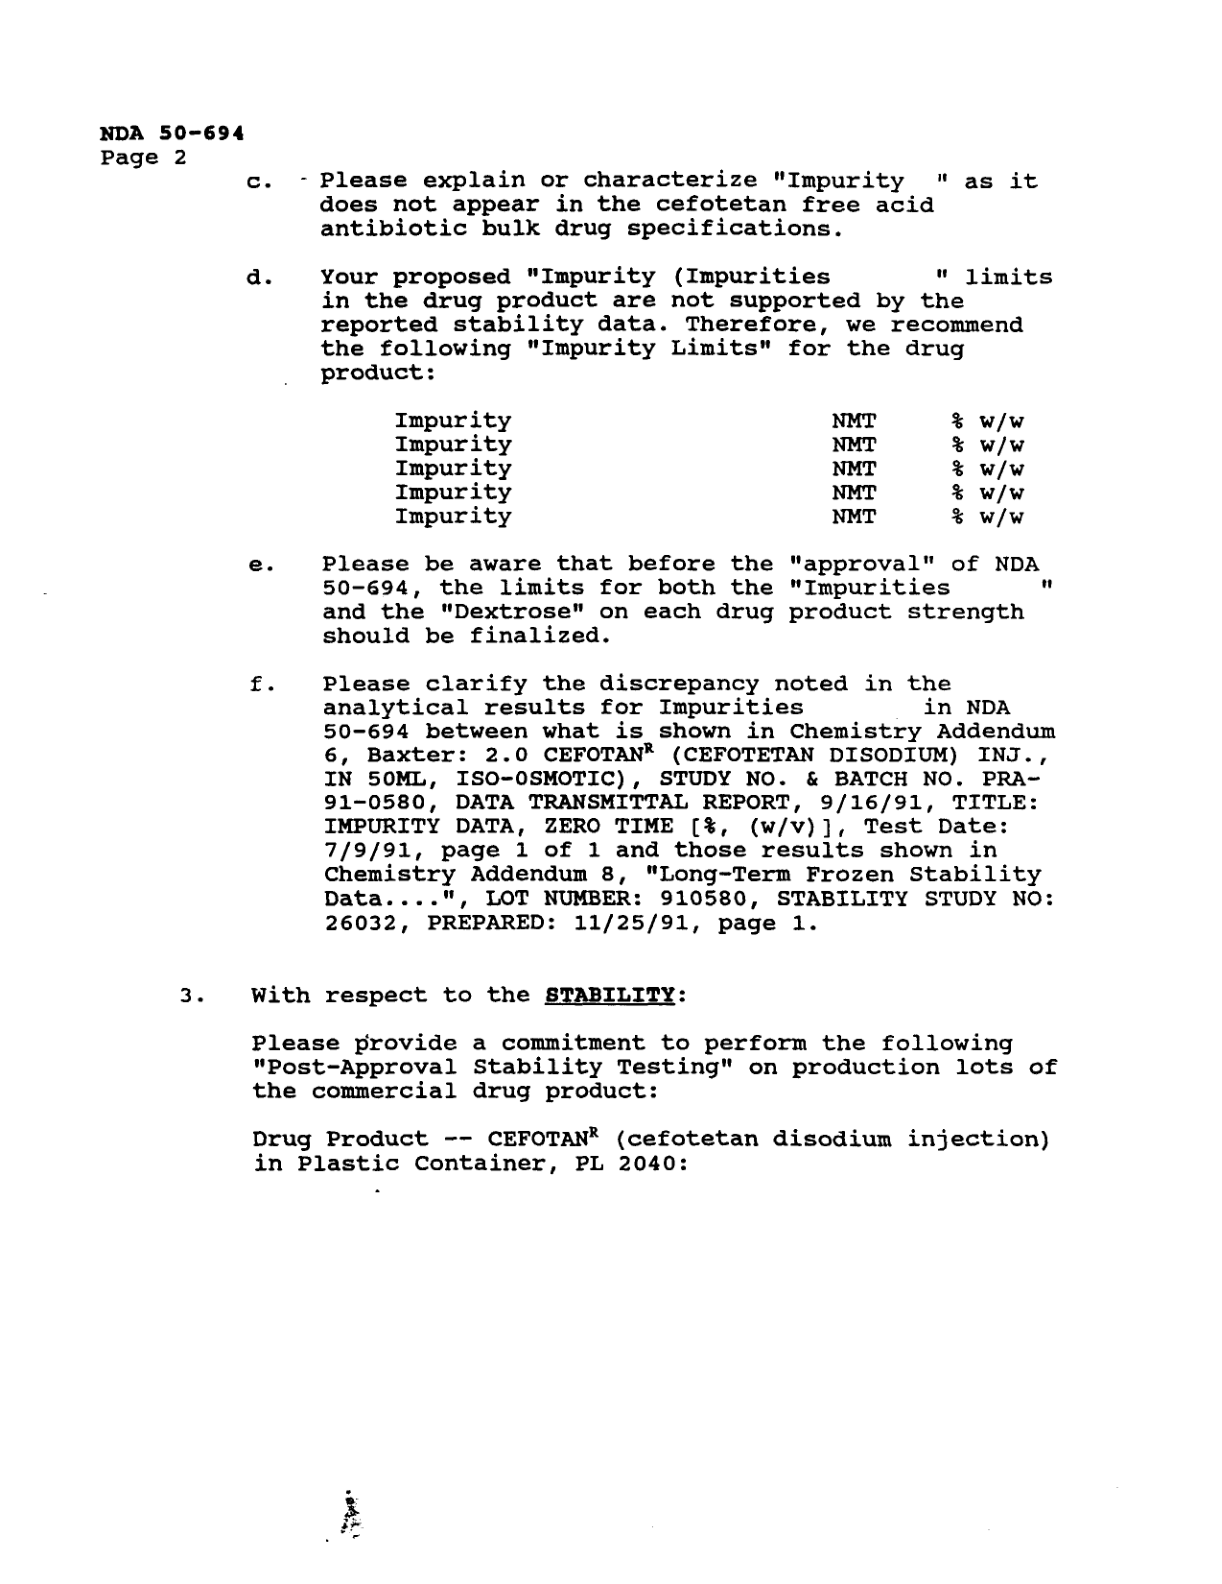nolines: (394, 409, 1027, 529)
